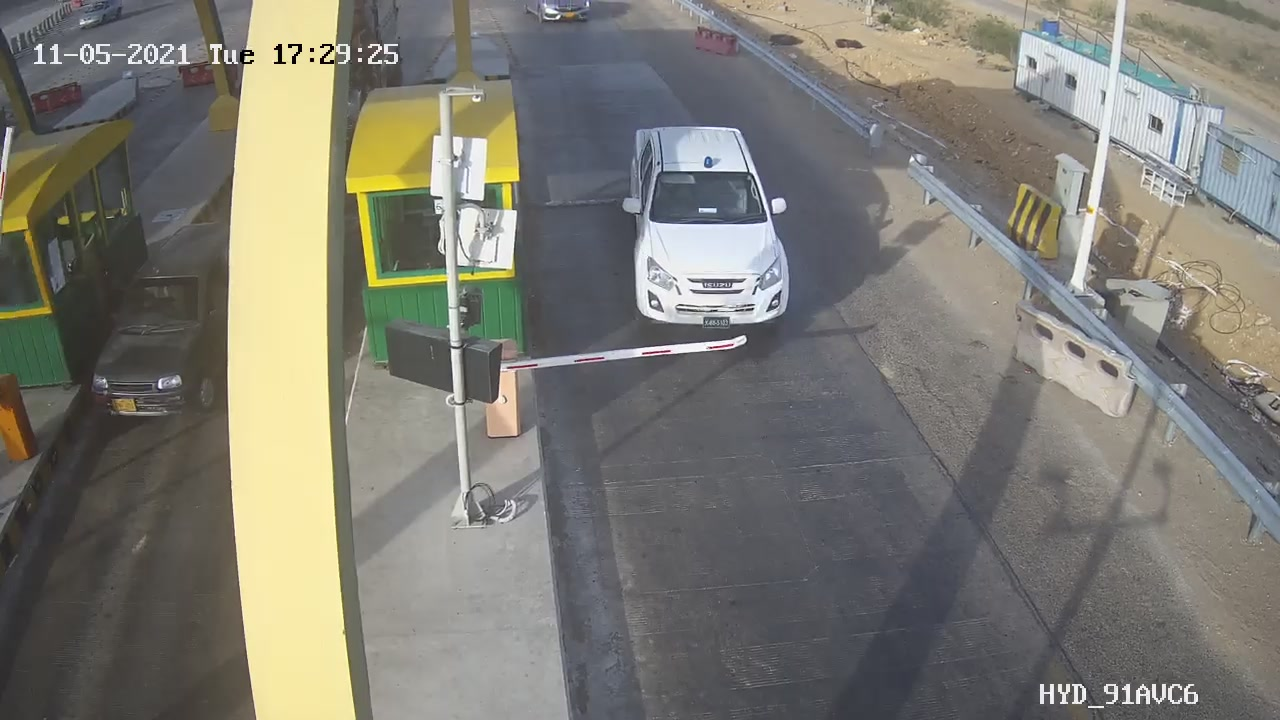F1: (613, 109, 808, 352)
